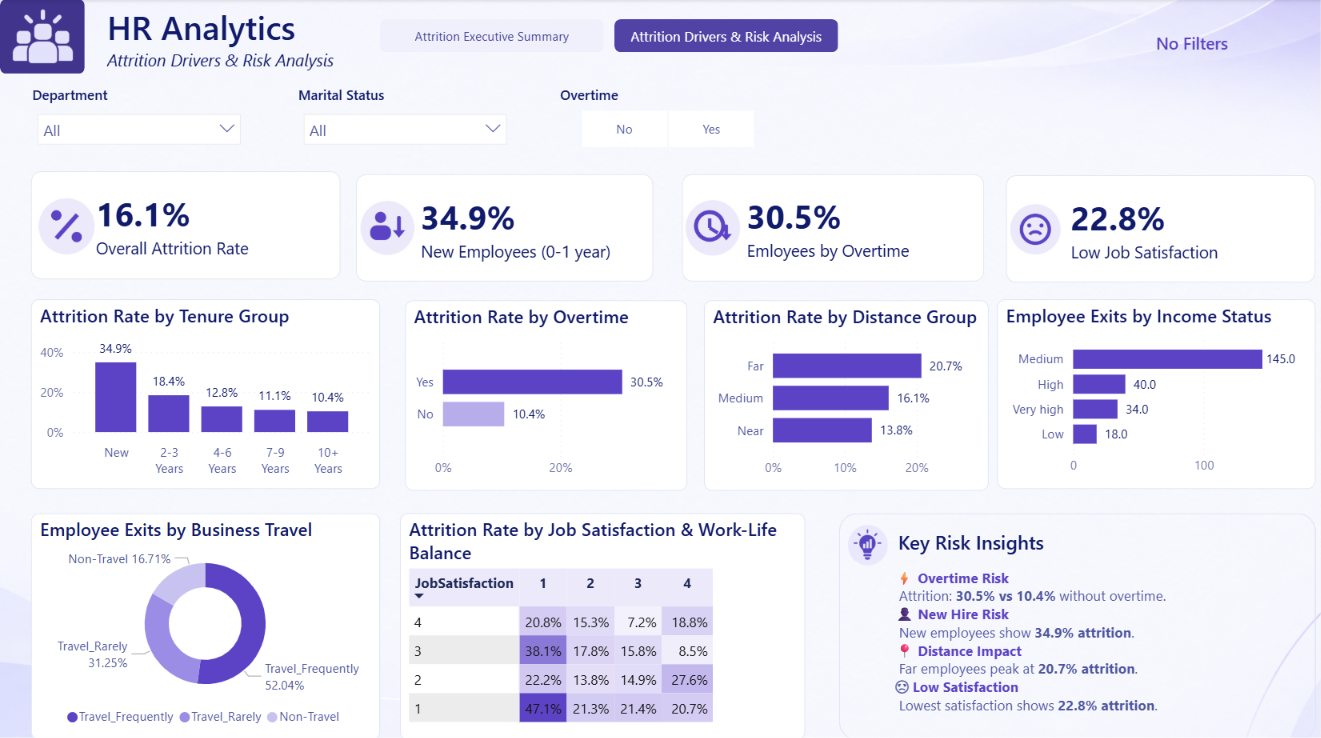

The page's visual inventory and layout, read from the dashboard file:
{"tool":"powerbi","page":{"name":"Attrition Drivers & Risk Analysis","canvas":[1280,720],"ordinal":1},"visuals":[{"type":"group","id":"g1","title":"Group 4","box":[30,166.9,299.8,105.3],"z":0,"group":"g5"},{"type":"cardVisual","title":"Total Employees","fields":{"Data":["HR-Employee-Attrition.attrition_rate"]},"box":[30,166.9,299.8,104.5],"z":0,"group":"g1"},{"type":"cardVisual","fields":{"Data":["HR-Employee-Attrition.newemployee_attrition"]},"box":[345,170,287.9,104],"z":0,"group":"g6"},{"type":"group","id":"g2","title":"Group 2","box":[661,170,292.8,103.9],"z":0,"group":"g7"},{"type":"cardVisual","fields":{"Data":["HR-Employee-Attrition.overtime_attrition"]},"box":[661,170,292.8,103.9],"z":0,"group":"g2"},{"type":"cardVisual","fields":{"Data":["HR-Employee-Attrition.jobsatisfaction_attrition"]},"box":[975,170.5,300,104],"z":0,"group":"g3"},{"type":"pivotTable","title":"Attrition Rate by Job Satisfaction & Work-Life Balance","fields":{"Rows":["HR-Employee-Attrition.JobSatisfaction"],"Columns":["HR-Employee-Attrition.WorkLifeBalance"],"Values":["HR-Employee-Attrition.attrition_rate"]},"box":[387.8,498,392.6,220],"z":0},{"type":"image","box":[32.9,167.7,63.5,104.5],"z":1000,"group":"g1"},{"type":"image","box":[345,170,60.9,104],"z":1000,"group":"g6"},{"type":"image","box":[660,170.1,61.9,103.9],"z":1000,"group":"g7"},{"type":"group","id":"g3","title":"Group 2","box":[975,170.5,300,104],"z":1000},{"type":"image","box":[975,170.5,56.4,104.5],"z":2000},{"type":"actionButton","box":[0,0,100,40],"z":3000},{"type":"shape","box":[0,0,82.1,72.3],"z":4000},{"type":"image","box":[0,0,83.5,72.3],"z":5000},{"type":"textbox","box":[98.8,0,237.2,83.7],"z":6000},{"type":"pageNavigator","box":[368.6,19.8,444.2,32.6],"z":7000},{"type":"cardVisual","fields":{"Data":["HR-Employee-Attrition.Filter Status"]},"box":[1030,0,250,82.6],"z":8000},{"type":"slicer","title":"Department","fields":{"Values":["HR-Employee-Attrition.Department"]},"box":[26.4,83.5,217,66.8],"z":9000},{"type":"slicer","title":"Marital Status","fields":{"Values":["HR-Employee-Attrition.MaritalStatus"]},"box":[283.8,83.5,217,66.8],"z":10000},{"type":"slicer","title":"Overtime","fields":{"Values":["HR-Employee-Attrition.OverTime"]},"box":[538.4,83.5,217,66.8],"z":11000},{"type":"group","id":"g4","title":"Group 3","box":[660,170,300.2,104.5],"z":12000},{"type":"clusteredBarChart","title":"Attrition Rate by Overtime","fields":{"Y":["HR-Employee-Attrition.attrition_rate"],"Category":["HR-Employee-Attrition.OverTime"]},"box":[392.6,291.8,273.8,184.9],"z":13000},{"type":"barChart","title":"Attrition Rate by Distance Group","fields":{"Y":["HR-Employee-Attrition.attrition_rate"],"Category":["HR-Employee-Attrition.DistanceGroup"]},"box":[682,291.8,276.2,184.9],"z":14000},{"type":"barChart","title":"Employee Exits by Income Status","fields":{"Category":["HR-Employee-Attrition.IncomeStatus"],"Y":["HR-Employee-Attrition.attrition_count"]},"box":[966.6,290.6,308.6,183.7],"z":15000},{"type":"clusteredColumnChart","title":"Attrition Rate by Tenure Group","fields":{"Y":["HR-Employee-Attrition.attrition_rate"],"Category":["HR-Employee-Attrition.TenureGroup"]},"box":[30,291,338.6,184],"z":16000},{"type":"donutChart","title":"Employee Exits by Business Travel","fields":{"Category":["HR-Employee-Attrition.BusinessTravel"],"Y":["HR-Employee-Attrition.attrition_rate"]},"box":[30,498.3,338,220],"z":17000},{"type":"group","id":"g5","title":"Group 1","box":[30,166.9,300,104.5],"z":18000},{"type":"group","id":"g6","title":"Group 5","box":[345,170,300,104.5],"z":19000},{"type":"group","id":"g7","title":"Group 6","box":[660,170,293.8,104],"z":19001,"group":"g4"},{"type":"shape","box":[812.9,498,462.3,220],"z":20000},{"type":"textbox","box":[865.4,509.2,190.6,37.6],"z":21000},{"type":"image","box":[820.1,501.9,43.2,54],"z":22000},{"type":"textbox","box":[862.6,546.8,397.9,158.6],"z":23000}]}

Visuals, with their boxes in screenshot pixels (x1, y1, x2, y2), scaled from the page's 1280x720 canvas onto the 1321x738 screenshot:
"Group 4" group: <region>31, 171, 340, 279</region>
"Total Employees" cardVisual: <region>31, 171, 340, 278</region>
cardVisual - HR-Employee-Attrition.newemployee_attrition: <region>356, 174, 653, 281</region>
"Group 2" group: <region>682, 174, 984, 281</region>
cardVisual - HR-Employee-Attrition.overtime_attrition: <region>682, 174, 984, 281</region>
cardVisual - HR-Employee-Attrition.jobsatisfaction_attrition: <region>1006, 175, 1316, 281</region>
"Attrition Rate by Job Satisfaction & Work-Life Balance" pivotTable: <region>400, 510, 805, 736</region>
image: <region>34, 172, 99, 279</region>
image: <region>356, 174, 419, 281</region>
image: <region>681, 174, 745, 281</region>
"Group 2" group: <region>1006, 175, 1316, 281</region>
image: <region>1006, 175, 1064, 282</region>
actionButton: <region>0, 0, 103, 41</region>
shape: <region>0, 0, 85, 74</region>
image: <region>0, 0, 86, 74</region>
textbox: <region>102, 0, 347, 86</region>
pageNavigator: <region>380, 20, 839, 54</region>
cardVisual - HR-Employee-Attrition.Filter Status: <region>1063, 0, 1320, 85</region>
"Department" slicer: <region>27, 86, 251, 154</region>
"Marital Status" slicer: <region>293, 86, 517, 154</region>
"Overtime" slicer: <region>556, 86, 780, 154</region>
"Group 3" group: <region>681, 174, 991, 281</region>
"Attrition Rate by Overtime" clusteredBarChart: <region>405, 299, 688, 489</region>
"Attrition Rate by Distance Group" barChart: <region>704, 299, 989, 489</region>
"Employee Exits by Income Status" barChart: <region>998, 298, 1316, 486</region>
"Attrition Rate by Tenure Group" clusteredColumnChart: <region>31, 298, 380, 487</region>
"Employee Exits by Business Travel" donutChart: <region>31, 511, 380, 736</region>
"Group 1" group: <region>31, 171, 341, 278</region>
"Group 5" group: <region>356, 174, 666, 281</region>
"Group 6" group: <region>681, 174, 984, 281</region>
shape: <region>839, 510, 1316, 736</region>
textbox: <region>893, 522, 1090, 560</region>
image: <region>846, 514, 891, 570</region>
textbox: <region>890, 560, 1301, 723</region>
